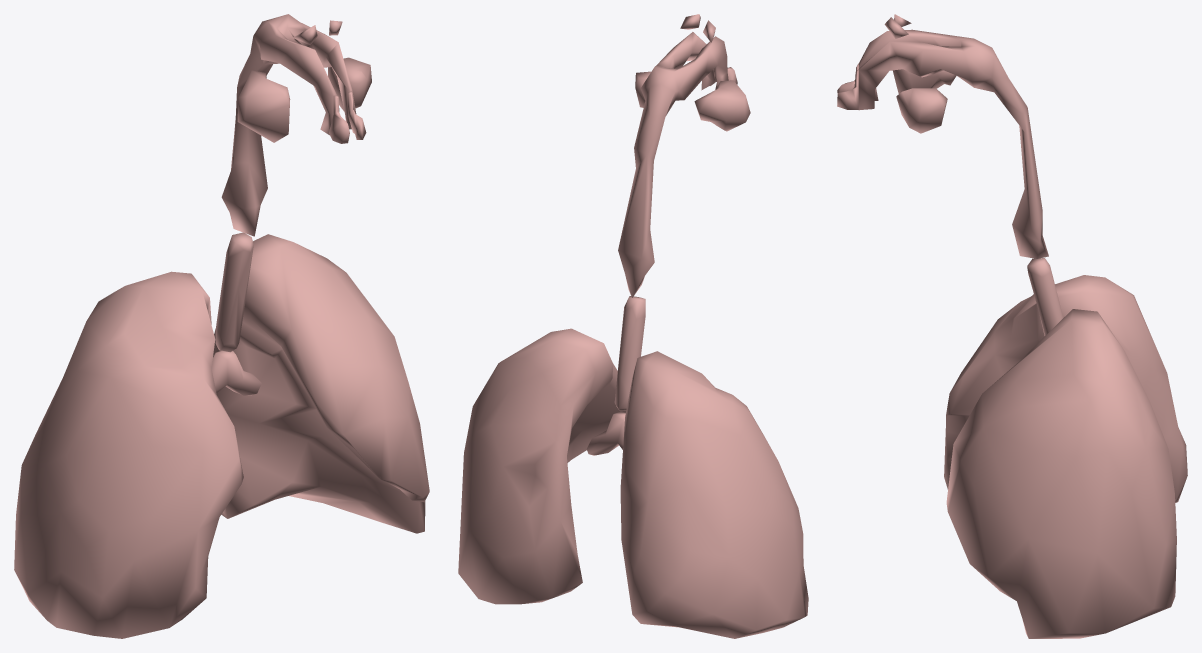
File: pediatric_child_10y_male.respiratory.LOD3.glb
3 views of the same model, side by side, from view 1: azimuth 30°, elevation 25°; view 2: azimuth 150°, elevation 25°; view 3: azimuth 270°, elevation 25° (orthographic). The views are drawn at different scales.
Parts seen in each view (by area): view 1: PEDIATRIC.CHILD_10Y.MALE.RESPIRATORY.LUNG.R, PEDIATRIC.CHILD_10Y.MALE.RESPIRATORY.LUNG.L, PEDIATRIC.CHILD_10Y.MALE.RESPIRATORY.ET2, PEDIATRIC.CHILD_10Y.MALE.RESPIRATORY.TRACHEA, PEDIATRIC.CHILD_10Y.MALE.RESPIRATORY.BB1, PEDIATRIC.CHILD_10Y.MALE.RESPIRATORY.ET1; view 2: PEDIATRIC.CHILD_10Y.MALE.RESPIRATORY.LUNG.R, PEDIATRIC.CHILD_10Y.MALE.RESPIRATORY.LUNG.L, PEDIATRIC.CHILD_10Y.MALE.RESPIRATORY.ET2, PEDIATRIC.CHILD_10Y.MALE.RESPIRATORY.TRACHEA, PEDIATRIC.CHILD_10Y.MALE.RESPIRATORY.BB1; view 3: PEDIATRIC.CHILD_10Y.MALE.RESPIRATORY.LUNG.L, PEDIATRIC.CHILD_10Y.MALE.RESPIRATORY.ET2, PEDIATRIC.CHILD_10Y.MALE.RESPIRATORY.LUNG.R, PEDIATRIC.CHILD_10Y.MALE.RESPIRATORY.TRACHEA, PEDIATRIC.CHILD_10Y.MALE.RESPIRATORY.ET1.
Part boxes in pixels (left/top/right/bottom): PEDIATRIC.CHILD_10Y.MALE.RESPIRATORY.LUNG.R: left=14, top=271, right=243, bottom=638; PEDIATRIC.CHILD_10Y.MALE.RESPIRATORY.LUNG.L: left=213, top=234, right=429, bottom=533; PEDIATRIC.CHILD_10Y.MALE.RESPIRATORY.ET2: left=221, top=14, right=371, bottom=236; PEDIATRIC.CHILD_10Y.MALE.RESPIRATORY.TRACHEA: left=215, top=232, right=253, bottom=352; PEDIATRIC.CHILD_10Y.MALE.RESPIRATORY.BB1: left=211, top=350, right=261, bottom=395; PEDIATRIC.CHILD_10Y.MALE.RESPIRATORY.ET1: left=329, top=91, right=366, bottom=143; PEDIATRIC.CHILD_10Y.MALE.RESPIRATORY.LUNG.R: left=620, top=351, right=808, bottom=638; PEDIATRIC.CHILD_10Y.MALE.RESPIRATORY.LUNG.L: left=458, top=328, right=625, bottom=604; PEDIATRIC.CHILD_10Y.MALE.RESPIRATORY.ET2: left=618, top=14, right=750, bottom=297; PEDIATRIC.CHILD_10Y.MALE.RESPIRATORY.TRACHEA: left=614, top=296, right=645, bottom=411; PEDIATRIC.CHILD_10Y.MALE.RESPIRATORY.BB1: left=586, top=412, right=625, bottom=455; PEDIATRIC.CHILD_10Y.MALE.RESPIRATORY.LUNG.L: left=946, top=309, right=1176, bottom=638; PEDIATRIC.CHILD_10Y.MALE.RESPIRATORY.ET2: left=858, top=14, right=1048, bottom=258; PEDIATRIC.CHILD_10Y.MALE.RESPIRATORY.LUNG.R: left=944, top=275, right=1187, bottom=502; PEDIATRIC.CHILD_10Y.MALE.RESPIRATORY.TRACHEA: left=1027, top=258, right=1063, bottom=335; PEDIATRIC.CHILD_10Y.MALE.RESPIRATORY.ET1: left=837, top=63, right=858, bottom=109.
Size of the model in its own units: 0.198 by 0.3066 by 0.1761.
